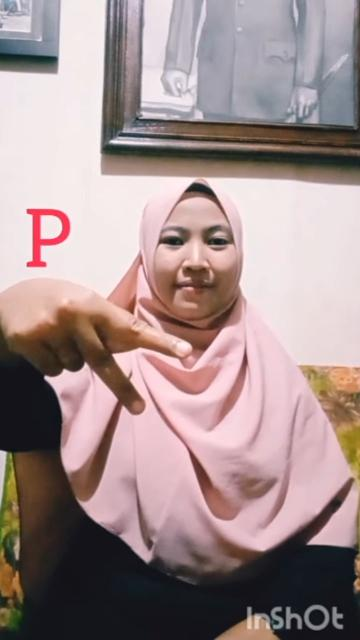P: (3, 274, 207, 422)
